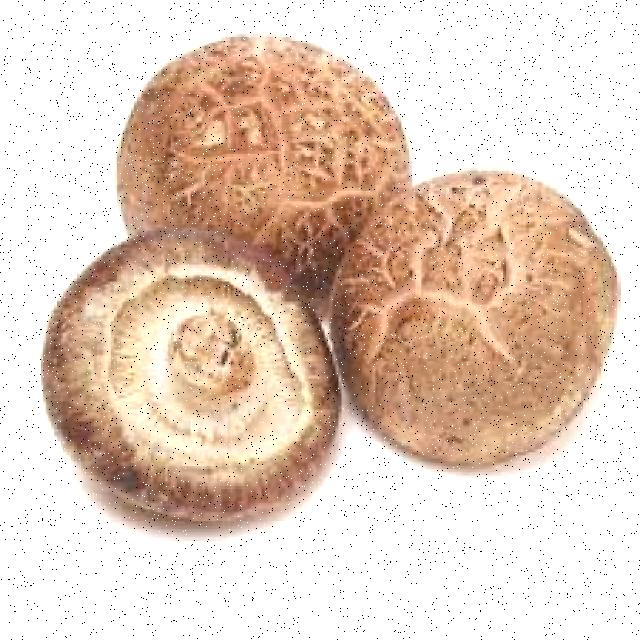Mushroom: (3, 214, 332, 528), (339, 169, 626, 482)
